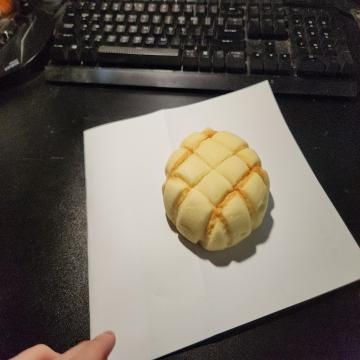melon_bread: (159, 127, 272, 250)
